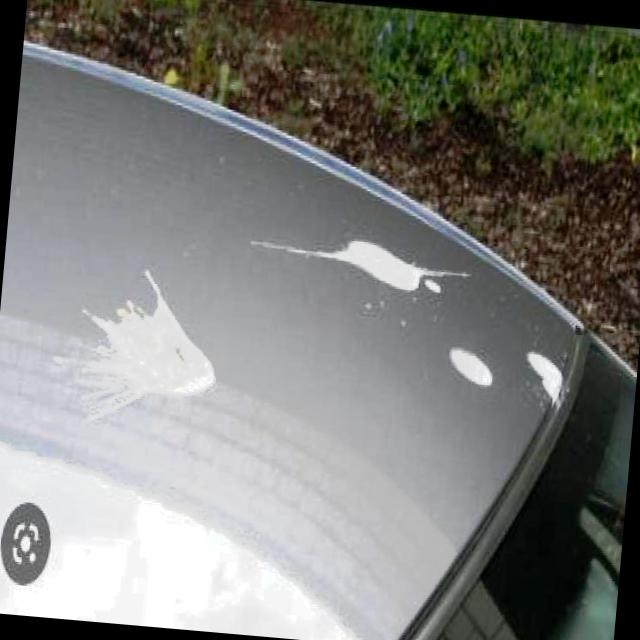Bird Poop: (84, 270, 213, 418), (253, 240, 466, 290), (528, 352, 560, 400), (449, 349, 490, 384), (425, 279, 439, 291)
